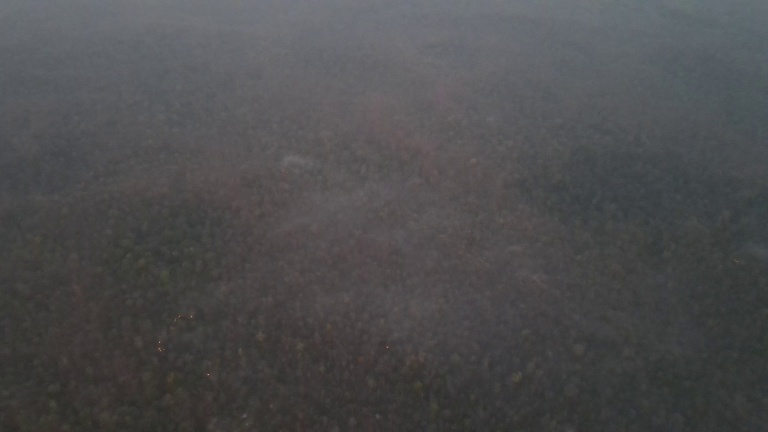fire: (151, 309, 200, 358), (204, 371, 217, 380), (384, 344, 393, 351)
smoke: (266, 148, 321, 182)
